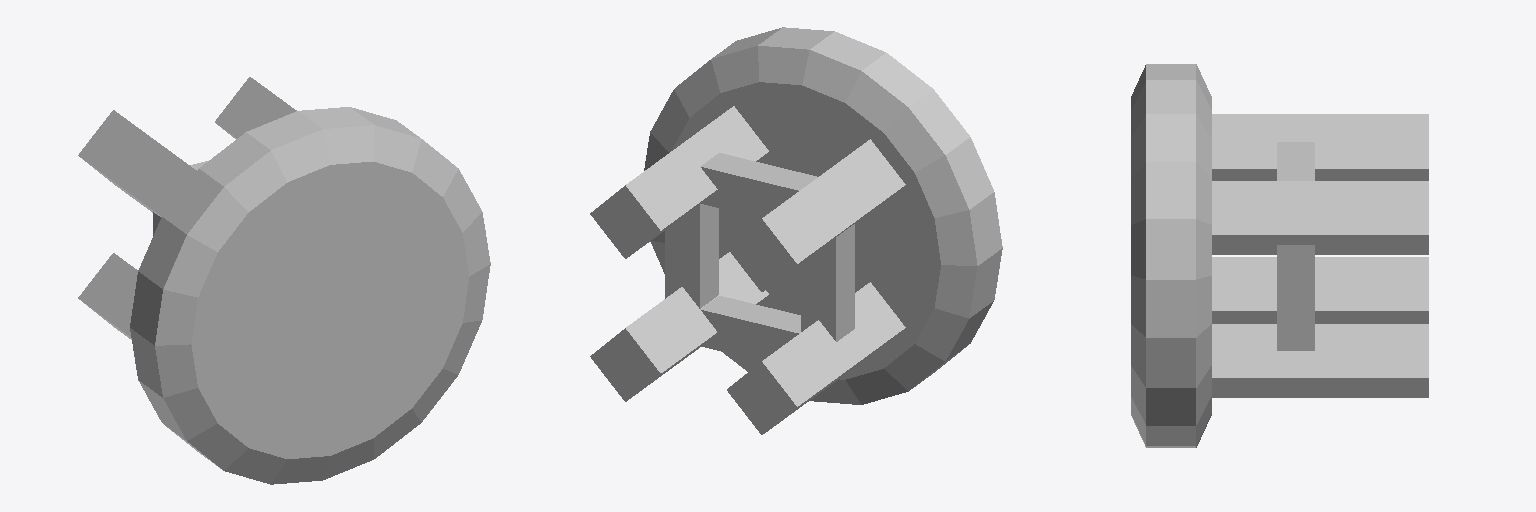
File: Environment_Stool.obj
The picture shows the model from 3 angles: view 1: azimuth 30°, elevation 25°; view 2: azimuth 150°, elevation 25°; view 3: azimuth 270°, elevation 25°; orthographic projection.
Parts seen in each view (by area): view 1: Environment_Stool_Cylinder.017; view 2: Environment_Stool_Cylinder.017; view 3: Environment_Stool_Cylinder.017.
Boxes of the visible parts, <box> form: Environment_Stool_Cylinder.017: <box>78,77,490,484</box>; Environment_Stool_Cylinder.017: <box>590,27,1002,434</box>; Environment_Stool_Cylinder.017: <box>1131,64,1428,447</box>.
Bounding box in the file's own units: 1.14 × 1.14 × 0.8765.